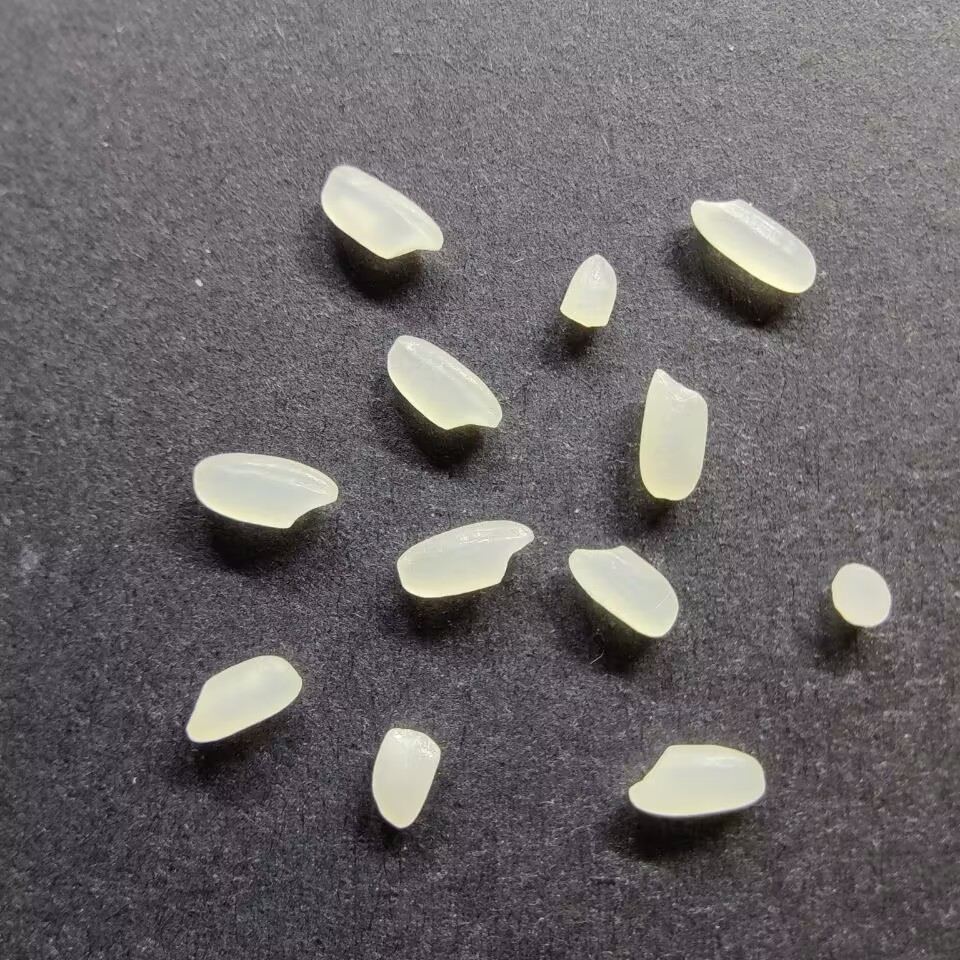broken: (370, 726, 442, 831), (557, 252, 620, 328), (829, 560, 893, 629)
rice: (689, 197, 821, 294), (318, 162, 446, 260), (189, 450, 341, 531), (385, 333, 504, 432), (394, 518, 534, 599), (183, 654, 304, 746), (566, 543, 680, 640), (625, 740, 765, 818), (637, 366, 711, 501)
